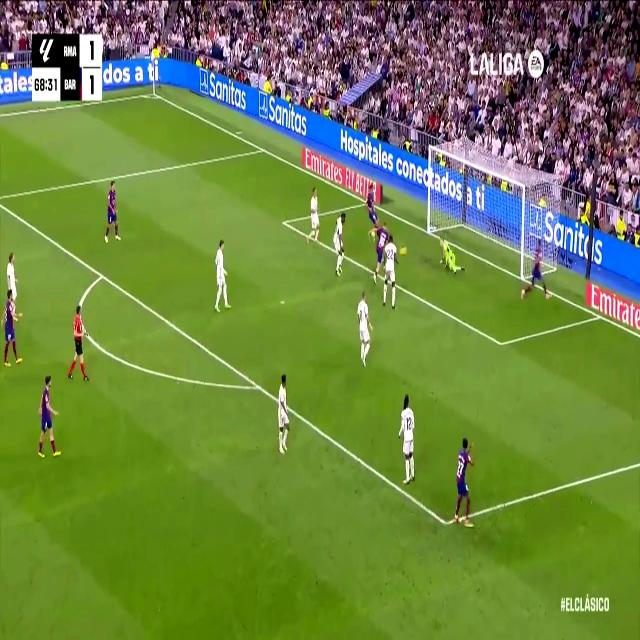bigarea_bottom_inner: (441, 509, 451, 536)
bigarea_top_outter: (258, 140, 266, 157)
bottom_arc_area_intersection: (251, 372, 264, 398)
corner: (148, 87, 160, 101)
smallarea_top_inner: (279, 212, 289, 232)
top_arc_area_intersection: (97, 265, 107, 285)
